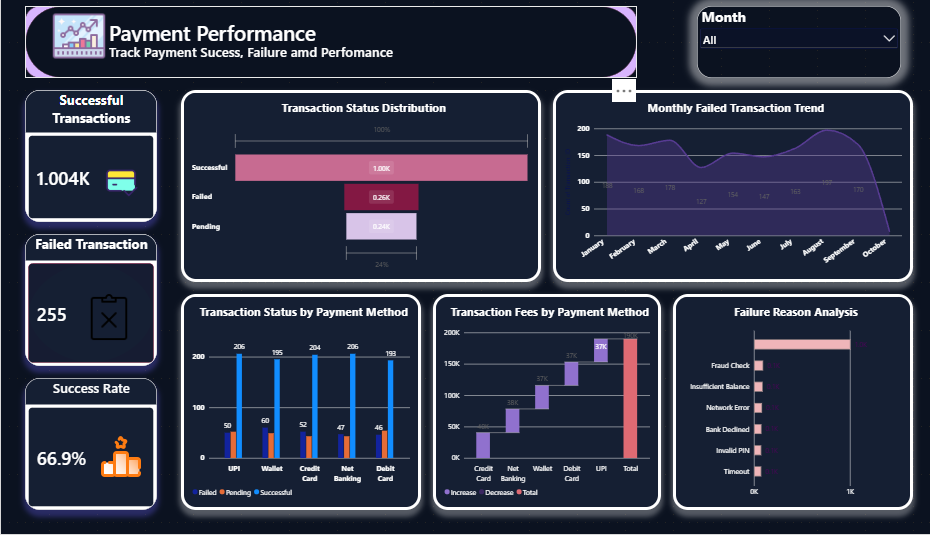

Layout of this report page (visuals, bound fields, positions):
{"tool":"powerbi","page":{"name":"Payment Performance Analysis","canvas":[1920,1080],"ordinal":1},"visuals":[{"type":"cardVisual","title":"Successful Transactions","fields":{"Data":["CountNonNull(razorpay_analytics razorpay_working_dataset.Transaction_ID)"]},"box":[48,192,264,264],"z":0},{"type":"cardVisual","title":"Failed Transaction","fields":{"Data":["CountNonNull(razorpay_analytics razorpay_working_dataset.Transaction_ID)"]},"box":[48,480,264,264],"z":1000},{"type":"funnel","title":"Transaction Status Distribution ","fields":{"Category":["razorpay_analytics razorpay_working_dataset.Transaction_Status"],"Y":["CountNonNull(razorpay_analytics razorpay_working_dataset.Transaction_ID)"]},"box":[360,192,720,384],"z":2000},{"type":"waterfallChart","title":"Transaction Fees by Payment Method","fields":{"Category":["razorpay_analytics razorpay_working_dataset.Payment_Method"],"Y":["Sum(razorpay_analytics razorpay_working_dataset.Transaction_Fee)"]},"box":[864,600,456,432],"z":3000},{"type":"clusteredBarChart","title":"Failure Reason Analysis","fields":{"Category":["razorpay_analytics razorpay_working_dataset.Failure_Reason"],"Y":["CountNonNull(razorpay_analytics razorpay_working_dataset.Transaction_ID)"]},"box":[1344,600,480,432],"z":5000},{"type":"clusteredColumnChart","title":"Transaction Status by Payment Method","fields":{"Category":["razorpay_analytics razorpay_working_dataset.Payment_Method"],"Series":["razorpay_analytics razorpay_working_dataset.Transaction_Status"],"Y":["CountNonNull(razorpay_analytics razorpay_working_dataset.Transaction_ID)"]},"box":[360,600,480,432],"z":6000},{"type":"stackedAreaChart","title":"Monthly Failed Transaction Trend","fields":{"Category":["razorpay_analytics razorpay_working_dataset.Transaction_Date.Variation.Date Hierarchy.Month"],"Y":["CountNonNull(razorpay_analytics razorpay_working_dataset.Transaction_ID)"]},"box":[1104,192,720,384],"z":7000},{"type":"shape","box":[48,24,1224,144],"z":10000},{"type":"textbox","title":"Payment Performance Analysis","box":[216,48,528,48],"z":11000},{"type":"textbox","box":[216,96,576,48],"z":12000},{"type":"image","box":[96,24,120,120],"z":13000},{"type":"cardVisual","title":"Success Rate","fields":{"Data":["razorpay_analytics razorpay_working_dataset.Success Rate"]},"box":[48,768,264,264],"z":13001},{"type":"slicer","fields":{"Values":["razorpay_analytics razorpay_working_dataset.Transaction_Date.Variation.Date Hierarchy.Month"]},"box":[1392,24,408,144],"z":13002},{"type":"image","box":[192,312,96,120],"z":13003},{"type":"image","box":[168,600,96,96],"z":13004},{"type":"image","box":[192,864,96,120],"z":13005}]}

Visuals, with their boxes in screenshot pixels (x1, y1, x2, y2), scaled from the page's 1920x1080 canvas onto the 930x535 screenshot:
"Successful Transactions" cardVisual: l=23, t=95, r=151, b=226
"Failed Transaction" cardVisual: l=23, t=238, r=151, b=369
"Transaction Status Distribution " funnel: l=174, t=95, r=523, b=285
"Transaction Fees by Payment Method" waterfallChart: l=418, t=297, r=639, b=511
"Failure Reason Analysis" clusteredBarChart: l=651, t=297, r=884, b=511
"Transaction Status by Payment Method" clusteredColumnChart: l=174, t=297, r=407, b=511
"Monthly Failed Transaction Trend" stackedAreaChart: l=535, t=95, r=884, b=285
shape: l=23, t=12, r=616, b=83
"Payment Performance Analysis" textbox: l=105, t=24, r=360, b=48
textbox: l=105, t=48, r=384, b=71
image: l=46, t=12, r=105, b=71
"Success Rate" cardVisual: l=23, t=380, r=151, b=511
slicer - razorpay_analytics razorpay_working_dataset.Transaction_Date.Variation.Date Hierarchy.Month: l=674, t=12, r=872, b=83
image: l=93, t=155, r=140, b=214
image: l=81, t=297, r=128, b=345
image: l=93, t=428, r=140, b=487
